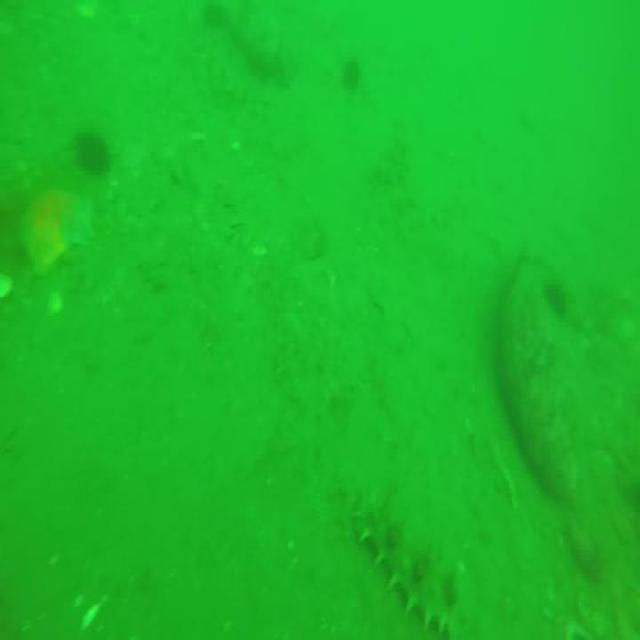echinus: (74, 125, 106, 174), (347, 55, 359, 98)
holothurian: (359, 499, 461, 640)
